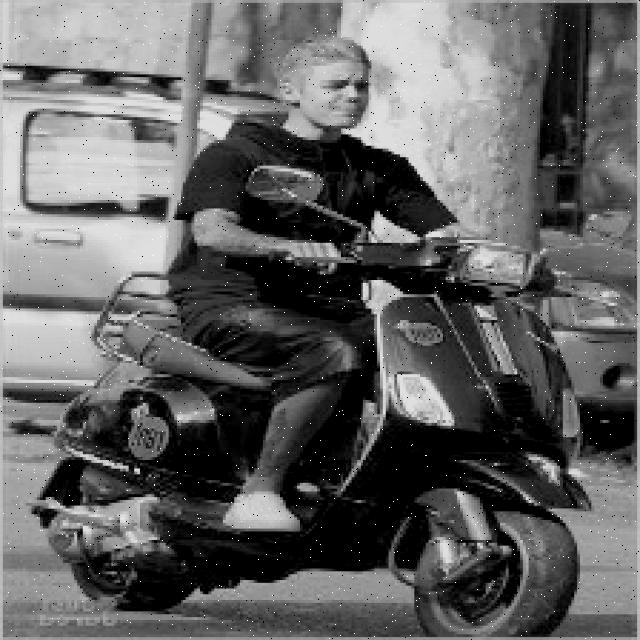Bike: (63, 261, 601, 628)
